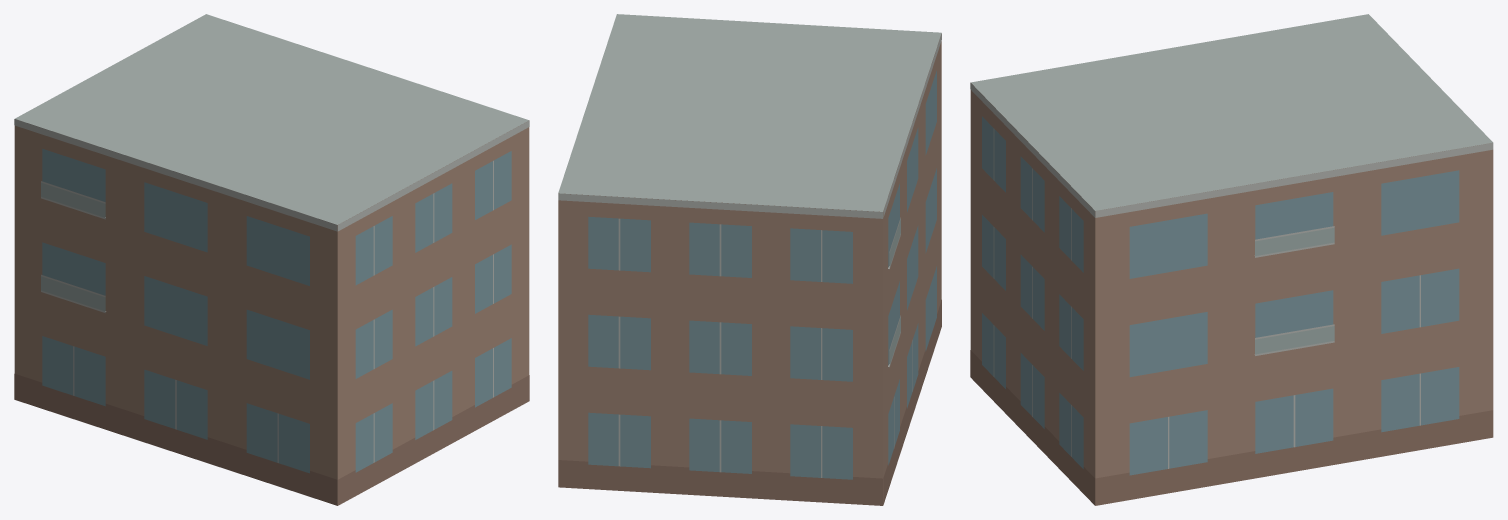
Rendered from survey-upis-32818898.glb.
3 views of the same model, side by side, from view 1: azimuth 30°, elevation 25°; view 2: azimuth 150°, elevation 25°; view 3: azimuth 270°, elevation 25° (orthographic). The views are drawn at different scales.
Parts seen in each view (by area): view 1: survey-upis-32818898.tmp; view 2: survey-upis-32818898.tmp; view 3: survey-upis-32818898.tmp.
Part boxes in pixels (bbox=[...]): survey-upis-32818898.tmp: bbox=[14, 14, 529, 505]; survey-upis-32818898.tmp: bbox=[558, 14, 941, 505]; survey-upis-32818898.tmp: bbox=[970, 14, 1493, 505].
Bounding box in the file's own units: 14.77 × 10.3 × 16.56.
